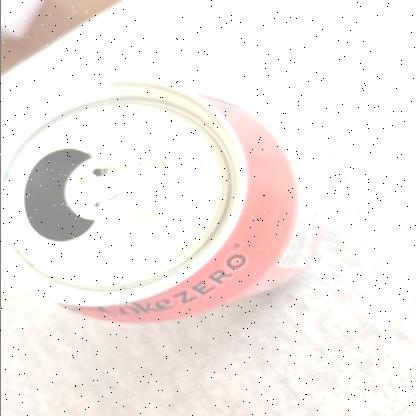Can: (0, 80, 320, 324)
